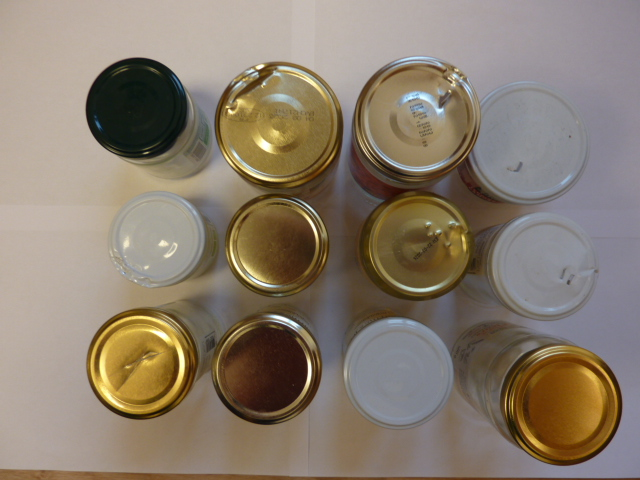damaged: (215, 60, 342, 188)
